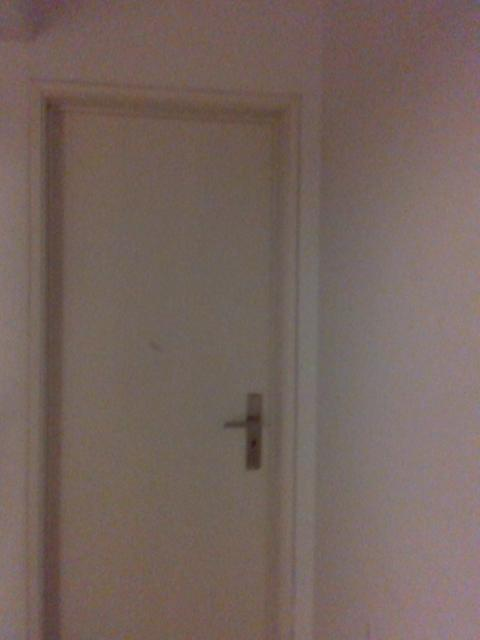door: (45, 103, 276, 640)
